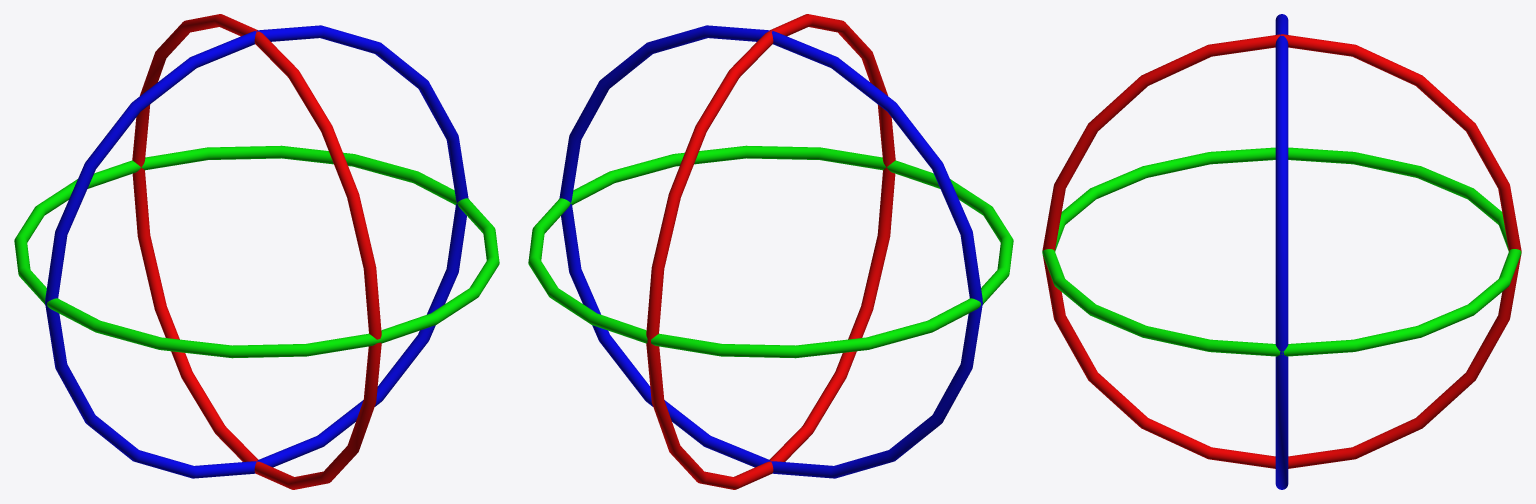
File: RotateTool.fbx
3 renders of one model, left to right at view 1: azimuth 30°, elevation 25°; view 2: azimuth 150°, elevation 25°; view 3: azimuth 270°, elevation 25°, orthographic.
Visible parts, largest first — view 1: pTorus3, pTorus2, pTorus1; view 2: pTorus3, pTorus2, pTorus1; view 3: pTorus2, pTorus1, pTorus3.
Part boxes in pixels (x1=…): pTorus3: x1=45, y1=25, x2=468, y2=478; pTorus2: x1=132, y1=14, x2=381, y2=489; pTorus1: x1=14, y1=145, x2=499, y2=358; pTorus3: x1=559, y1=25, x2=982, y2=478; pTorus2: x1=646, y1=14, x2=895, y2=489; pTorus1: x1=528, y1=145, x2=1013, y2=358; pTorus2: x1=1042, y1=34, x2=1521, y2=468; pTorus1: x1=1042, y1=147, x2=1521, y2=356; pTorus3: x1=1275, y1=14, x2=1288, y2=489.
Bounding box in the file's own units: 2 × 2 × 2.
